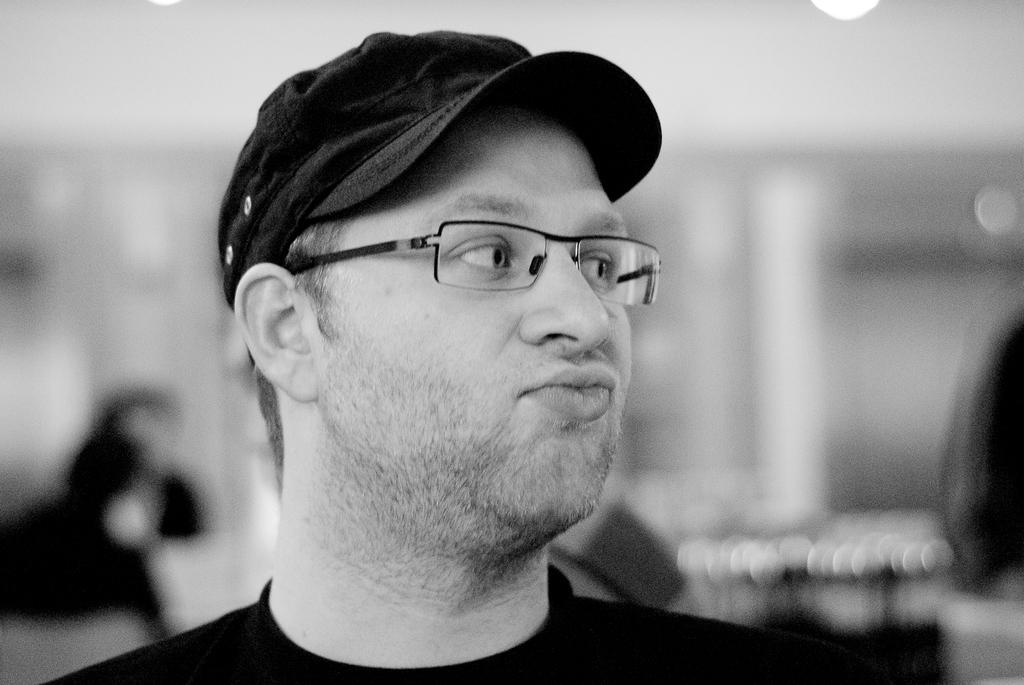Hat: (214, 25, 664, 305)
